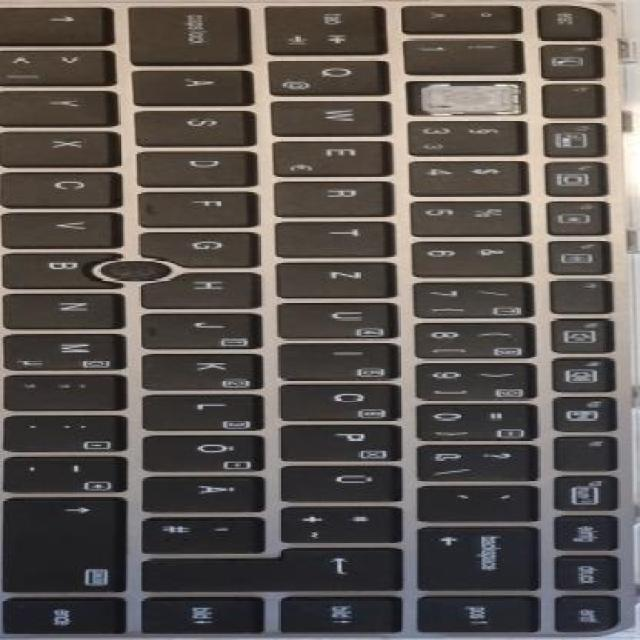Keyboard problems: (415, 83, 523, 112)
